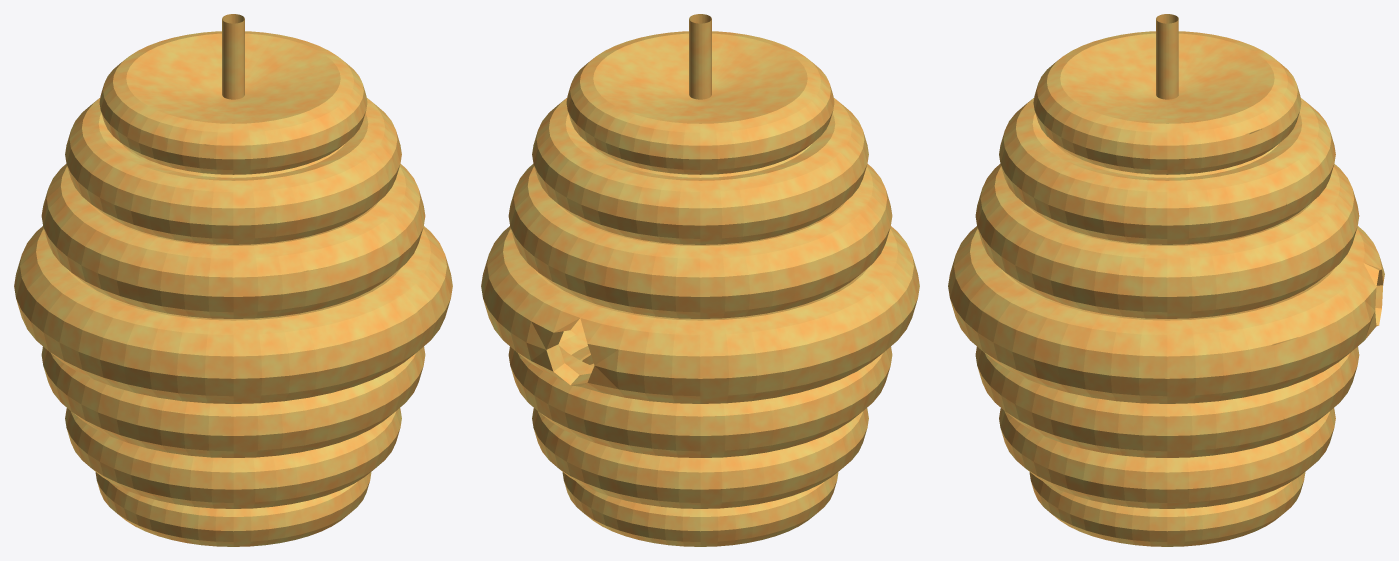
The model's file is hive.fbx.
3 renders of one model, left to right at view 1: azimuth 30°, elevation 25°; view 2: azimuth 150°, elevation 25°; view 3: azimuth 270°, elevation 25°, orthographic.
Parts seen in each view (by area): view 1: Torus; view 2: Torus; view 3: Torus.
Part boxes in pixels (box(x1,y1,x2,y2)): Torus: box(14, 14, 452, 546); Torus: box(481, 14, 919, 546); Torus: box(948, 14, 1384, 546).
Size of the model in its own units: 281 by 338 by 279.
1 material, 1 textured.
